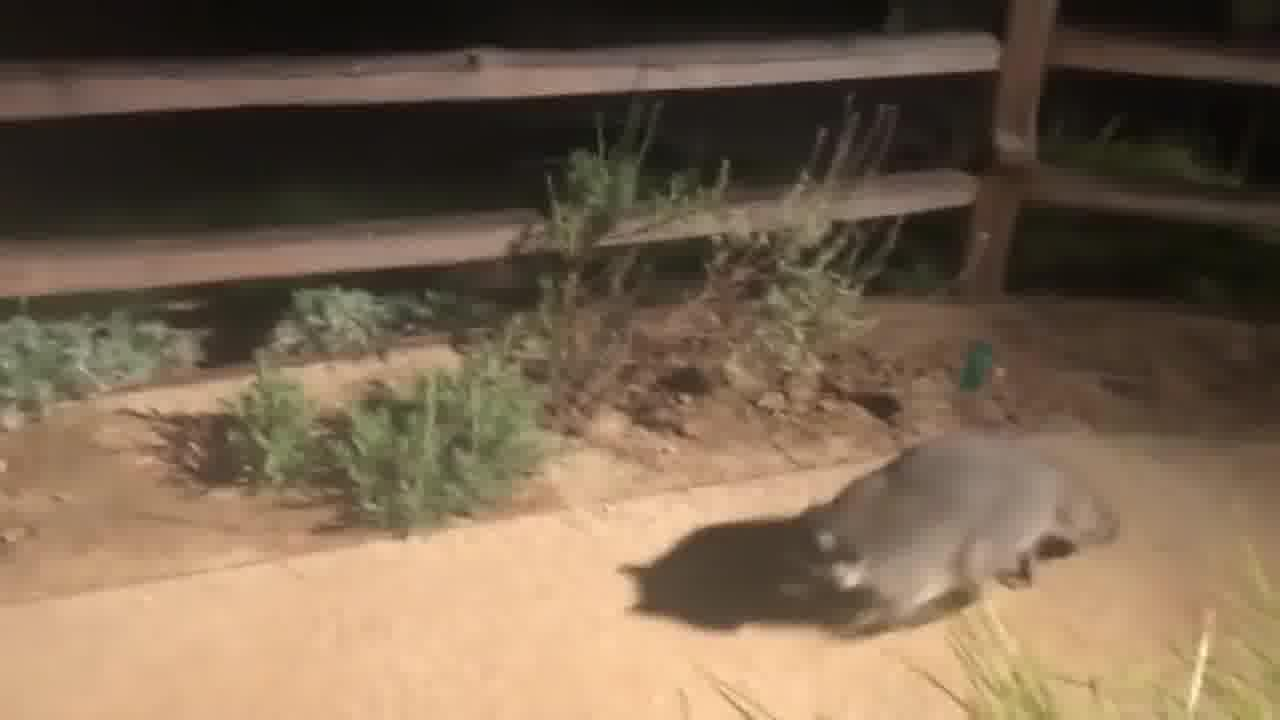raccoon: (779, 432, 1124, 637)
